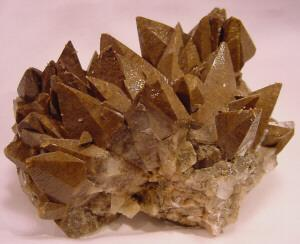calcite: (5, 8, 295, 239)
